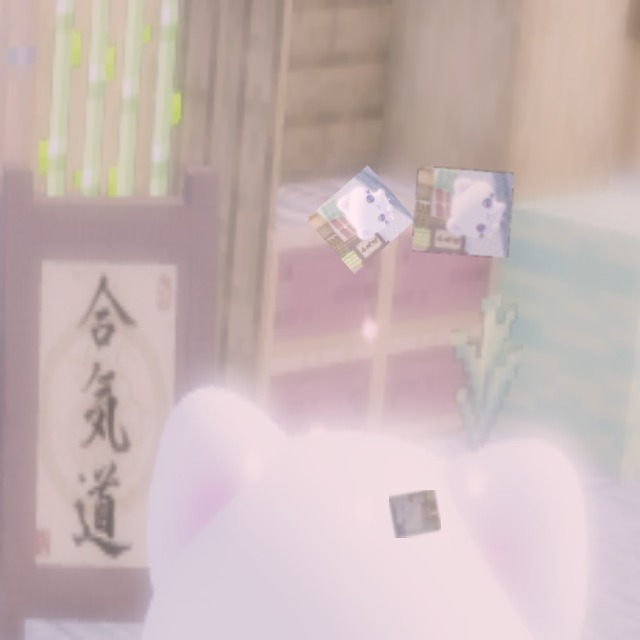urso_branco: (306, 165, 416, 274), (412, 166, 514, 258), (389, 490, 441, 538)
